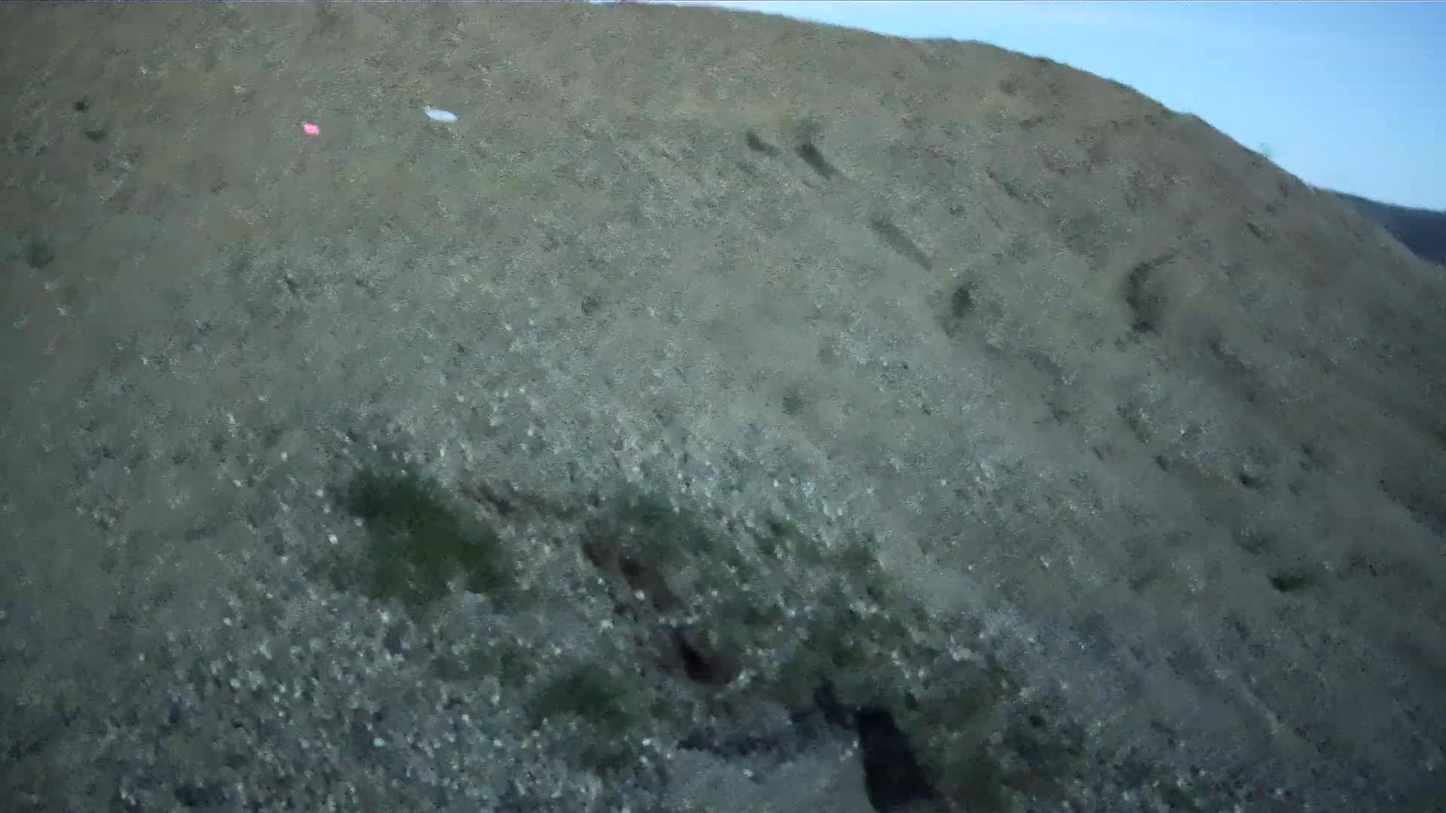Target: (424, 107, 459, 123)
